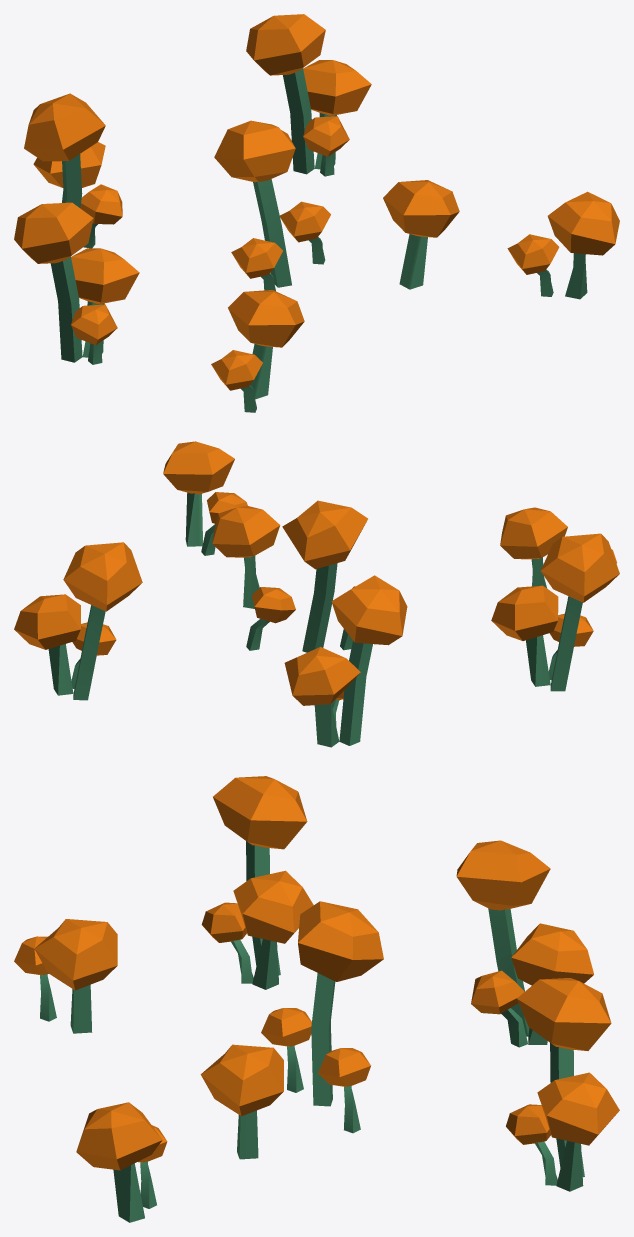
The model's file is SM_Tile_Orange_flowers.fbx.
The picture shows the model from 3 angles, top to bottom: view 1: azimuth 30°, elevation 25°; view 2: azimuth 150°, elevation 25°; view 3: azimuth 270°, elevation 25°; orthographic projection. The views are drawn at different scales.
Parts seen in each view (by area): view 1: SM_Flowers_Orange; view 2: SM_Flowers_Orange; view 3: SM_Flowers_Orange.
Boxes of the visible parts, x1=… form: SM_Flowers_Orange: x1=14, y1=14, x2=619, y2=412; SM_Flowers_Orange: x1=14, y1=441, x2=619, y2=747; SM_Flowers_Orange: x1=14, y1=776, x2=619, y2=1222.
Size of the model in its own units: 86.47 by 24.44 by 74.86.
1 material, 1 textured.
